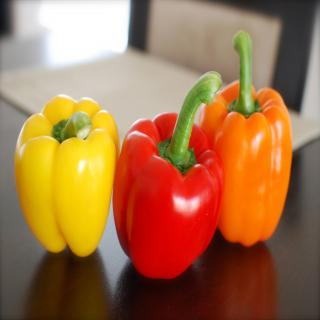Bell pepper: (113, 71, 223, 282), (198, 30, 293, 249), (16, 92, 118, 259)
